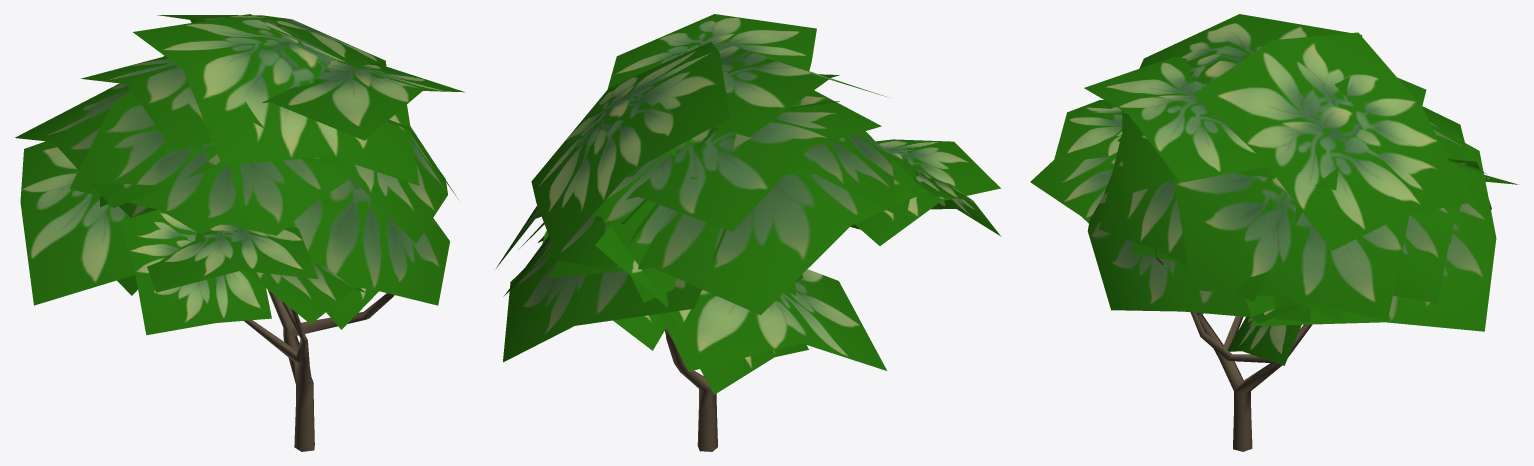
File: Tree_005_Mesh_002.fbx
3 renders of one model, left to right at view 1: azimuth 30°, elevation 25°; view 2: azimuth 150°, elevation 25°; view 3: azimuth 270°, elevation 25°, orthographic. The views are drawn at different scales.
Parts seen in each view (by area): view 1: Tree_005_Mesh_002; view 2: Tree_005_Mesh_002; view 3: Tree_005_Mesh_002.
Part boxes in pixels (x1=…): Tree_005_Mesh_002: x1=15, y1=14, x2=464, y2=451; Tree_005_Mesh_002: x1=496, y1=14, x2=1001, y2=451; Tree_005_Mesh_002: x1=1030, y1=14, x2=1519, y2=451.
Size of the model in its own units: 2856 by 3057 by 3440.
